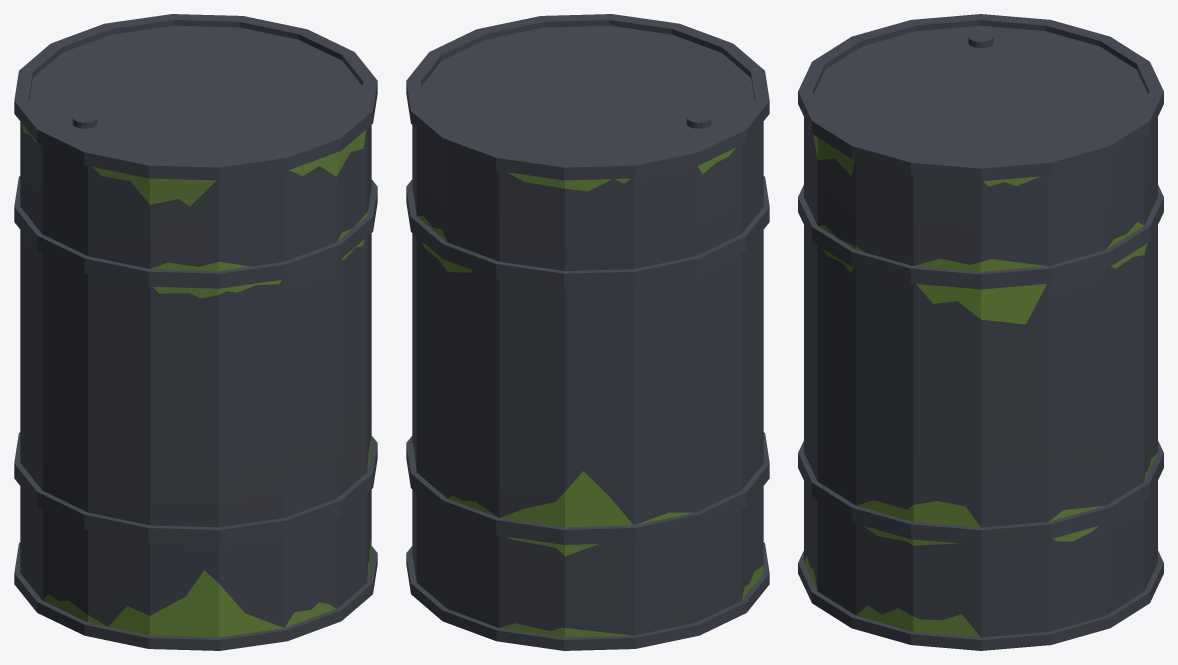
Rendered from Barrel_01.fbx.
3 renders of one model, left to right at view 1: azimuth 30°, elevation 25°; view 2: azimuth 150°, elevation 25°; view 3: azimuth 270°, elevation 25°, orthographic.
Parts seen in each view (by area): view 1: Barrel_01; view 2: Barrel_01; view 3: Barrel_01.
Boxes of the visible parts, box(x1,y1,x2,y2) form: Barrel_01: box(14, 14, 377, 650); Barrel_01: box(406, 14, 769, 650); Barrel_01: box(798, 14, 1163, 650).
Bounding box in the file's own units: 0.6096 × 0.8875 × 0.6096.
